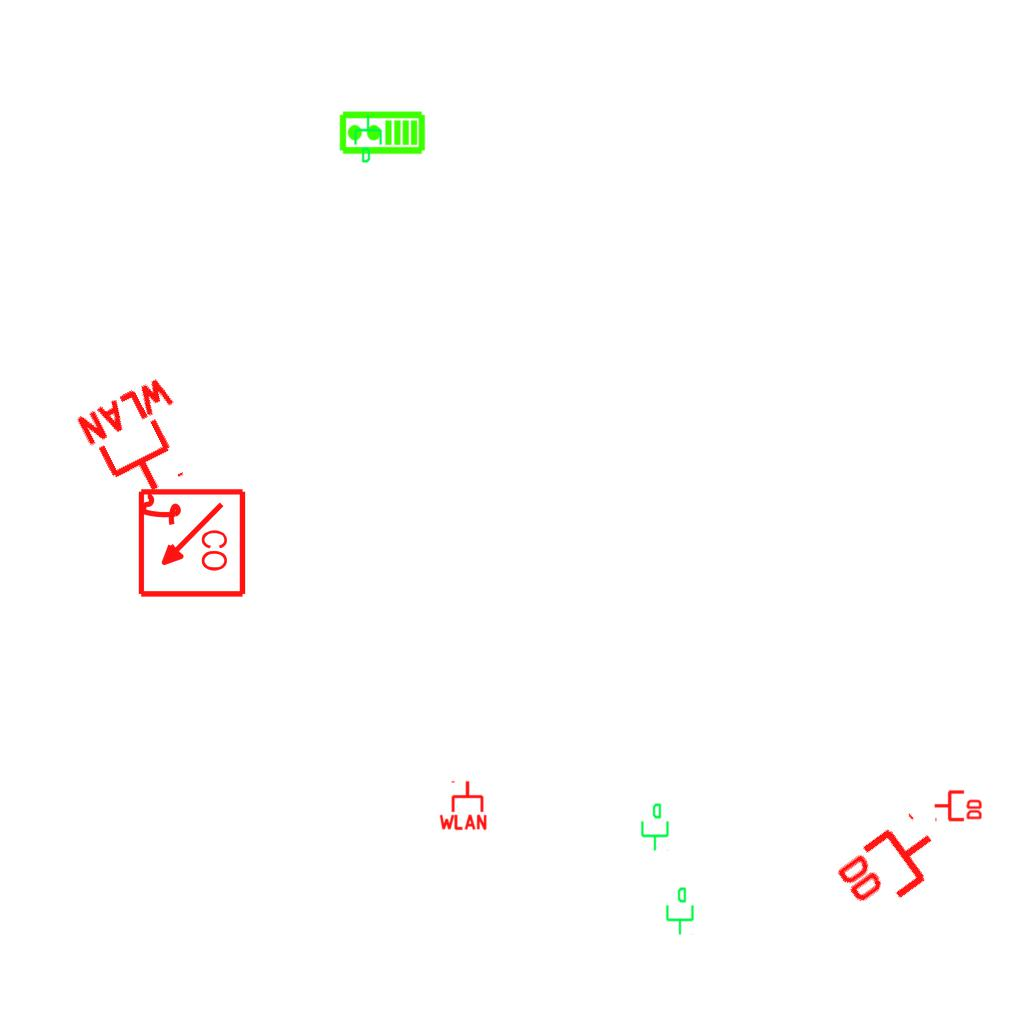Datenanschluss_einfach: (637, 802, 671, 852), (662, 886, 696, 936), (352, 114, 386, 164)
Datenanschluss_zweifach: (829, 809, 954, 926), (933, 788, 984, 822)
Gegensprechanlage_mit_Video: (338, 110, 426, 157)
ROA_Rauchmelder_optisch_mit_Signalgeber_(Sockelsirene): (134, 487, 247, 600)
WLAN: (71, 371, 212, 513), (437, 779, 489, 831)
